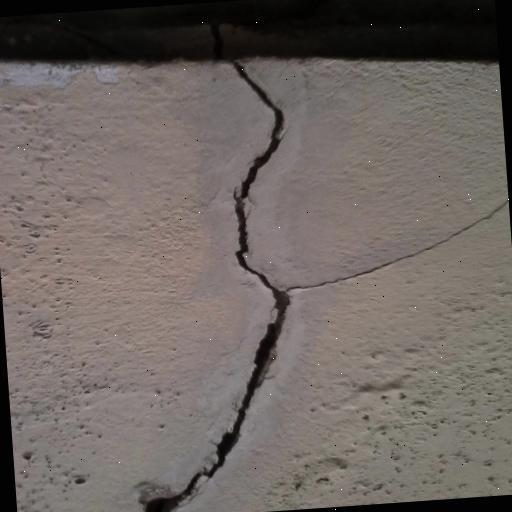spalling: (139, 59, 298, 512), (310, 194, 510, 296)
